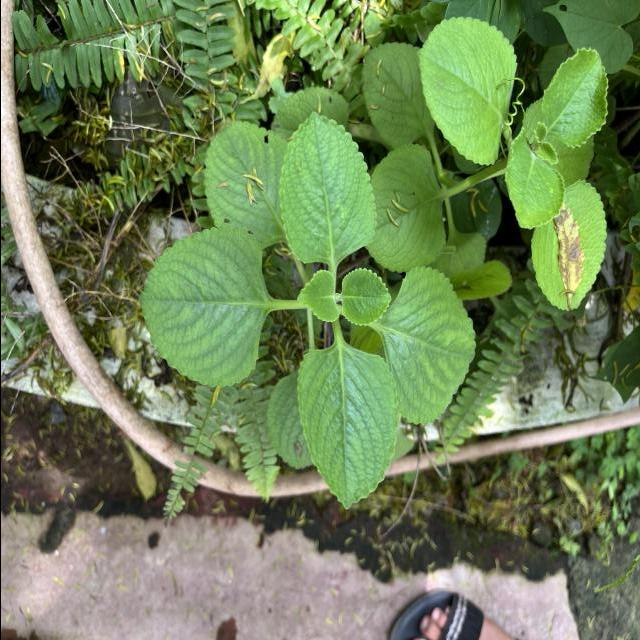Plectranthus barbatus: (137, 224, 270, 388), (294, 344, 400, 511), (416, 15, 517, 168), (278, 112, 377, 266), (384, 264, 476, 428), (202, 121, 288, 256), (528, 178, 608, 313), (366, 142, 447, 274), (360, 42, 434, 150), (502, 126, 565, 232), (339, 267, 392, 327), (295, 268, 340, 324)
